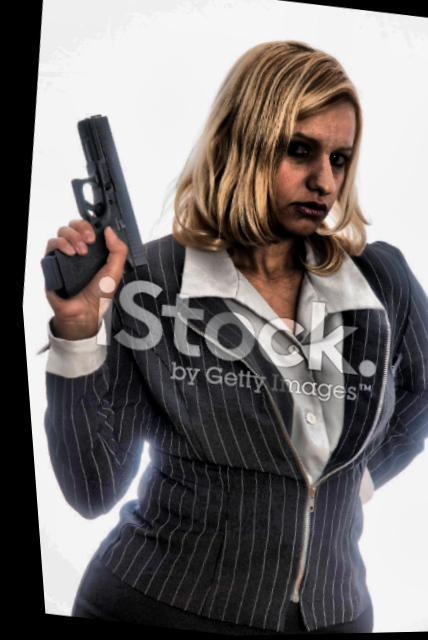pistol: (13, 109, 165, 310)
